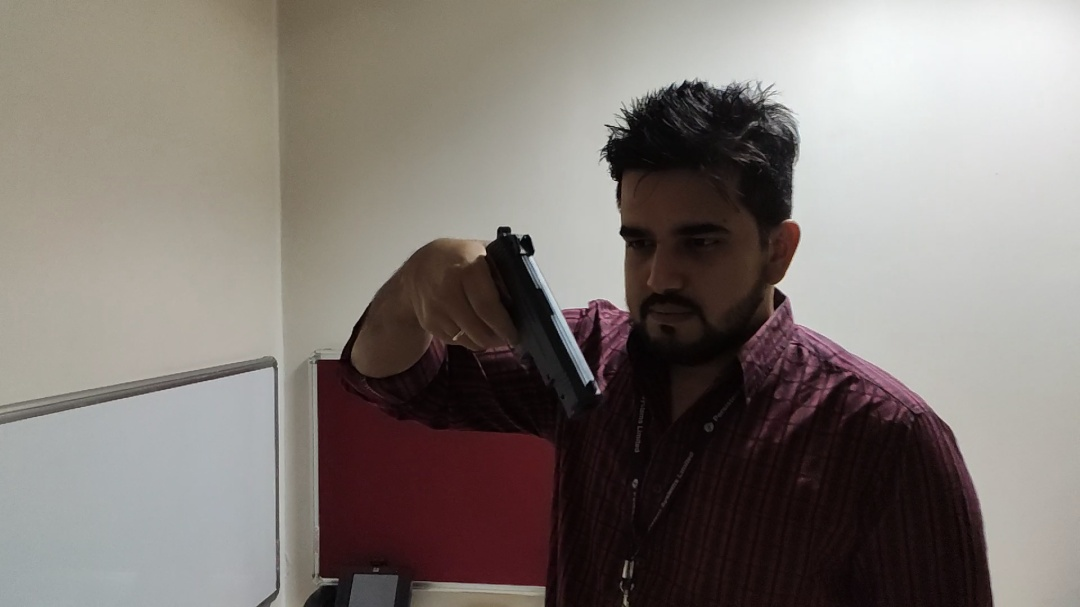gun: (451, 220, 611, 422)
